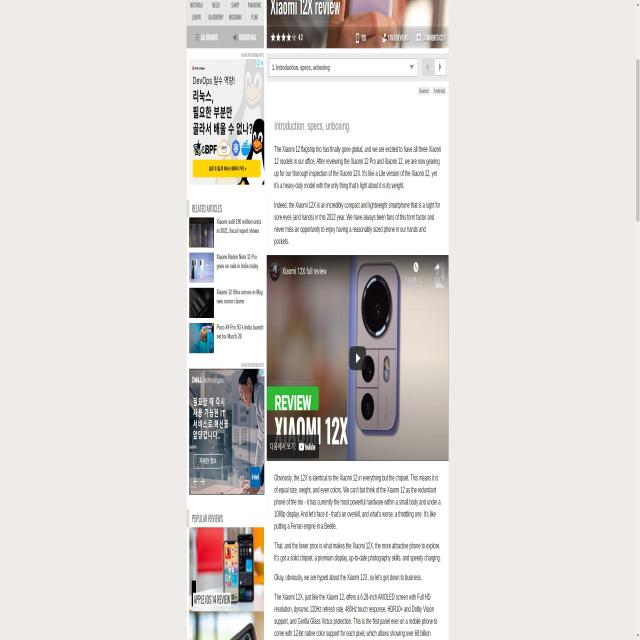content: (269, 24, 446, 46)
search: (268, 59, 418, 76)
side-panel: (186, 55, 270, 640)
